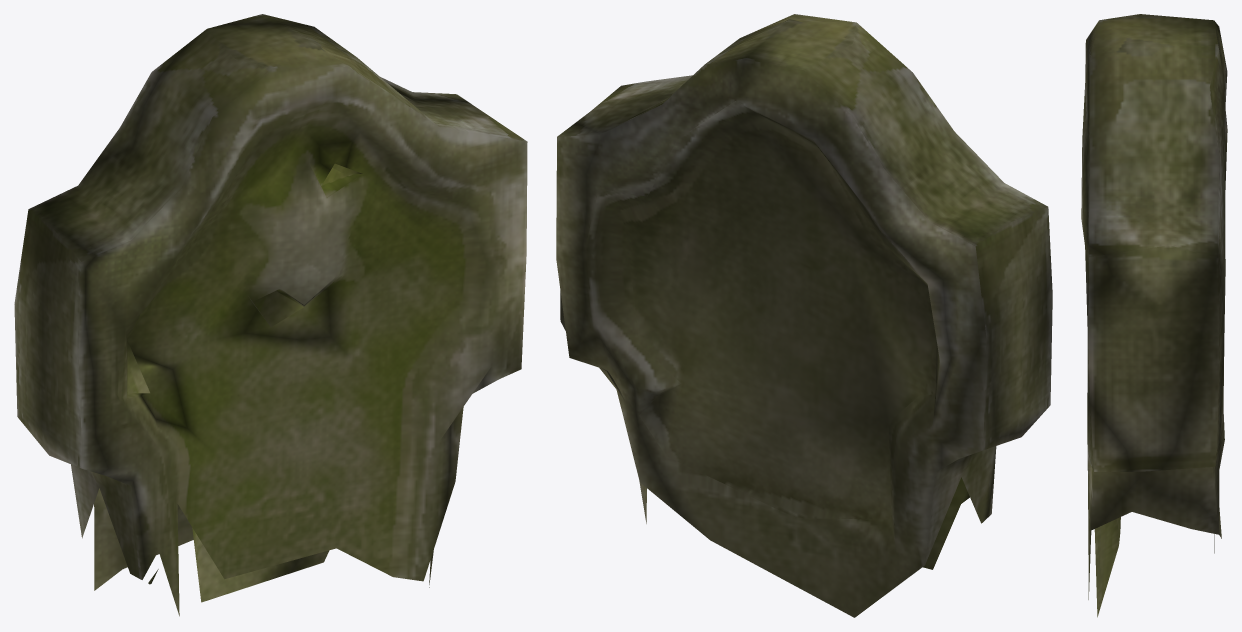
The model's file is gravestone.glb.
3 renders of one model, left to right at view 1: azimuth 30°, elevation 25°; view 2: azimuth 150°, elevation 25°; view 3: azimuth 270°, elevation 25°, orthographic. The views are drawn at different scales.
Parts seen in each view (by area): view 1: Prop; view 2: Prop; view 3: Prop.
Boxes of the visible parts, x1=… form: Prop: x1=14, y1=14, x2=527, y2=616; Prop: x1=556, y1=14, x2=1052, y2=617; Prop: x1=1081, y1=14, x2=1227, y2=617.
Size of the model in its own units: 0.8432 by 1 by 0.2511.
1 material, 1 textured.
